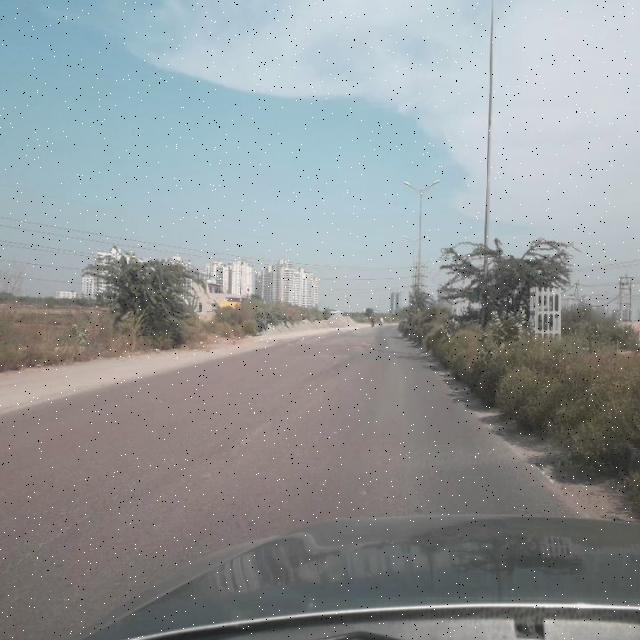D00: (1, 489, 119, 574)
D40: (320, 338, 378, 354)
D44: (197, 406, 288, 474)
